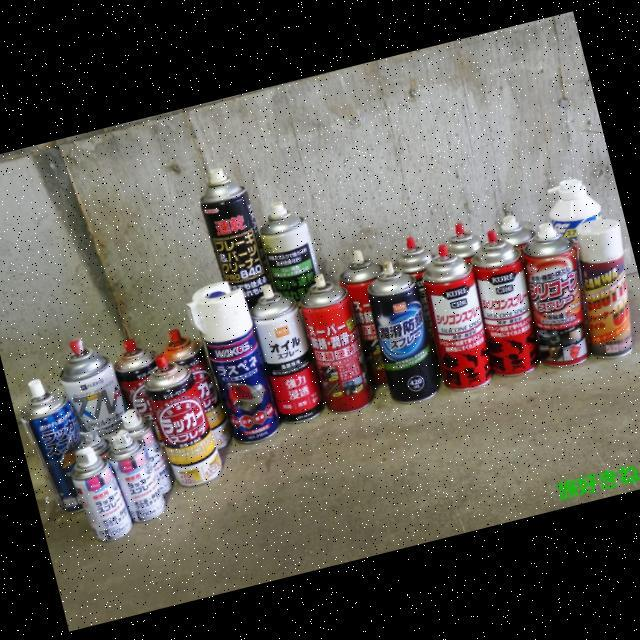chemical_spray_can: (185, 280, 278, 442), (143, 354, 221, 486), (299, 272, 372, 412), (249, 284, 323, 422), (367, 259, 438, 402), (422, 243, 491, 389), (471, 229, 539, 375), (199, 166, 269, 306), (523, 221, 588, 366), (19, 378, 81, 512), (161, 328, 230, 447), (576, 217, 633, 356), (338, 248, 386, 385), (59, 338, 124, 438), (69, 446, 131, 541), (259, 200, 317, 301), (106, 430, 164, 522), (120, 408, 171, 493), (113, 337, 154, 419)
